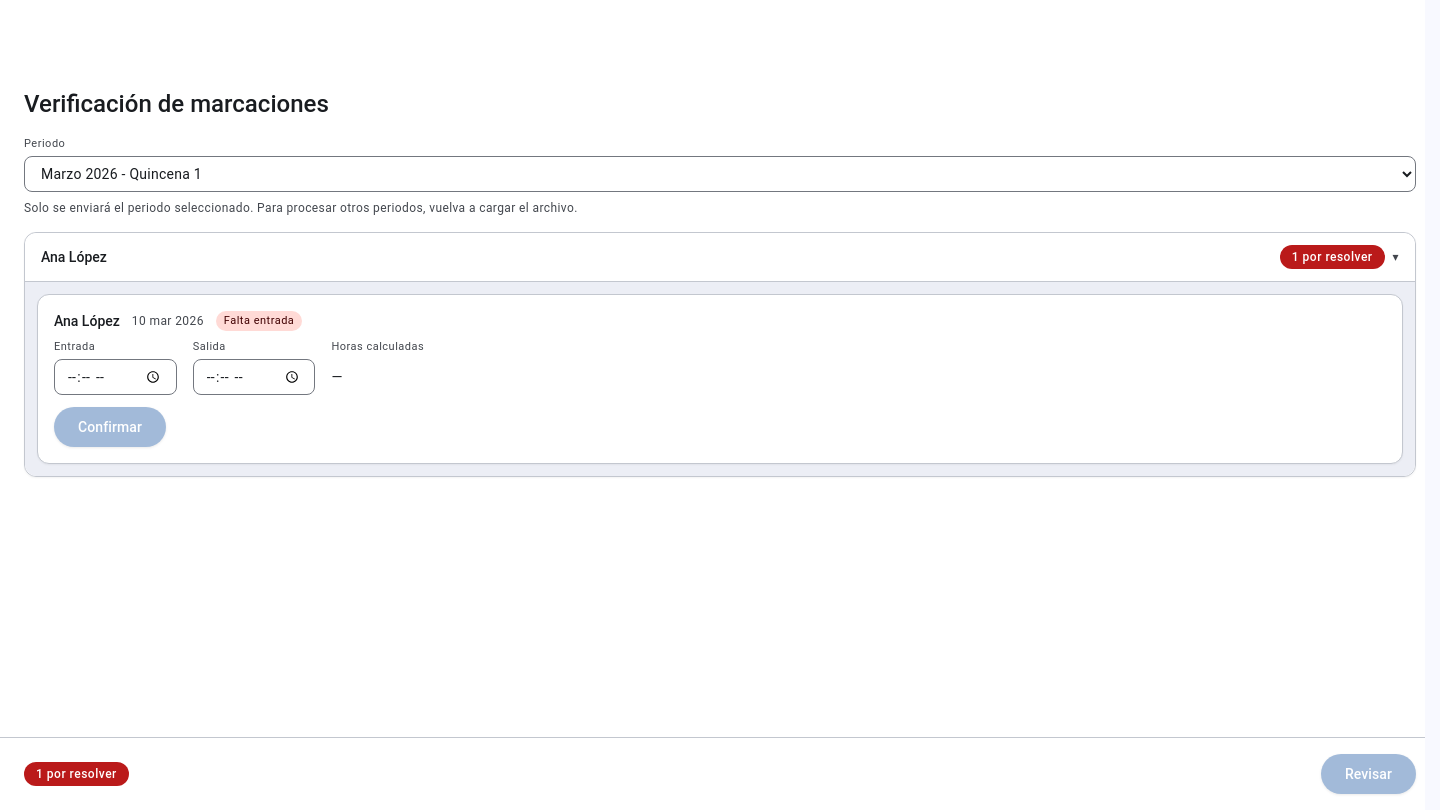
Test: VerificationScreen period selector › switches filtered sessions when a different period is selected
This screenshot has width=1440, height=810.
Select "Marzo 2026 - Quincena 2" in the dropdown labelled "Periodo" at (720, 174), box [24,156,1416,192]
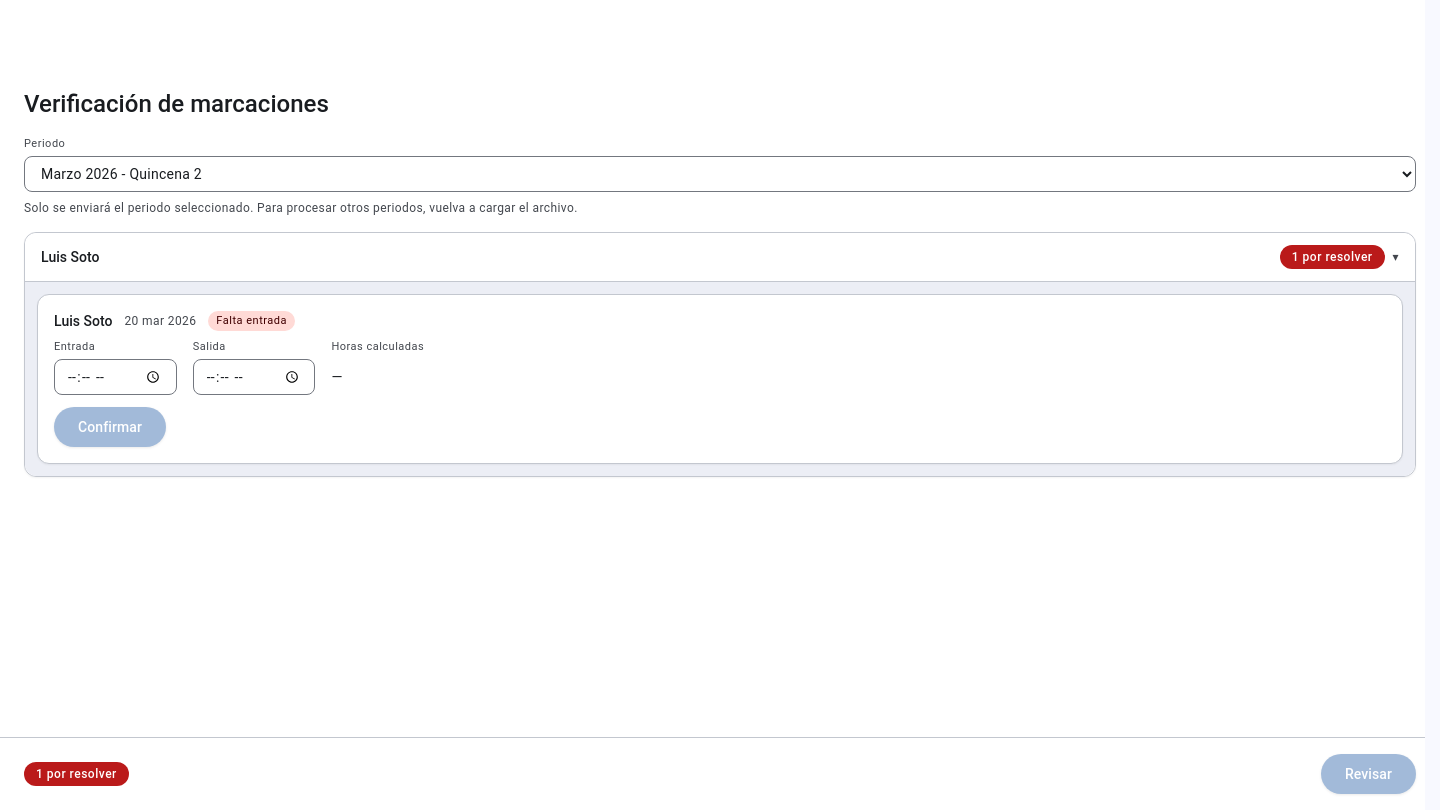
expect the button "Ana López" is gone: met
expect the 1st text "Luis Soto" is shown: met, box [41,247,99,267]
